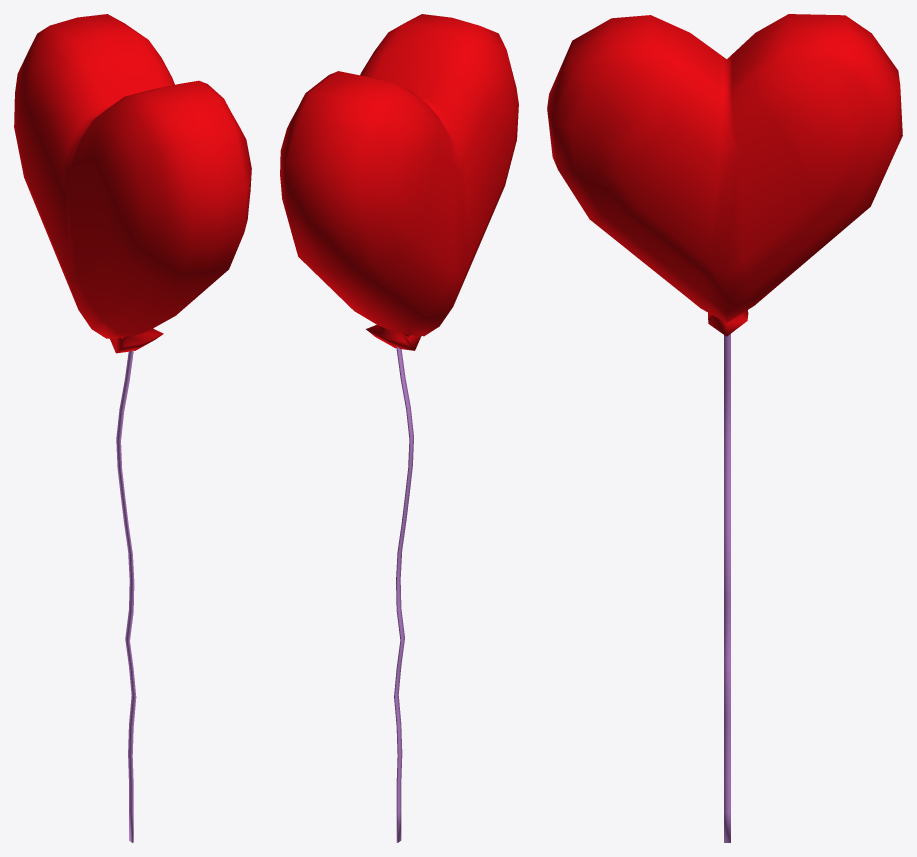
The model's file is heartballoon.fbx.
The picture shows the model from 3 angles, left to right: view 1: azimuth 30°, elevation 25°; view 2: azimuth 150°, elevation 25°; view 3: azimuth 270°, elevation 25°; orthographic projection. The views are drawn at different scales.
Visible parts, largest first — view 1: heartballon; view 2: heartballon; view 3: heartballon.
Boxes of the visible parts, bbox=[...] form: heartballon: bbox=[14, 14, 251, 842]; heartballon: bbox=[280, 14, 518, 842]; heartballon: bbox=[547, 14, 902, 842].
Size of the model in its own units: 96.37 by 556 by 219.
